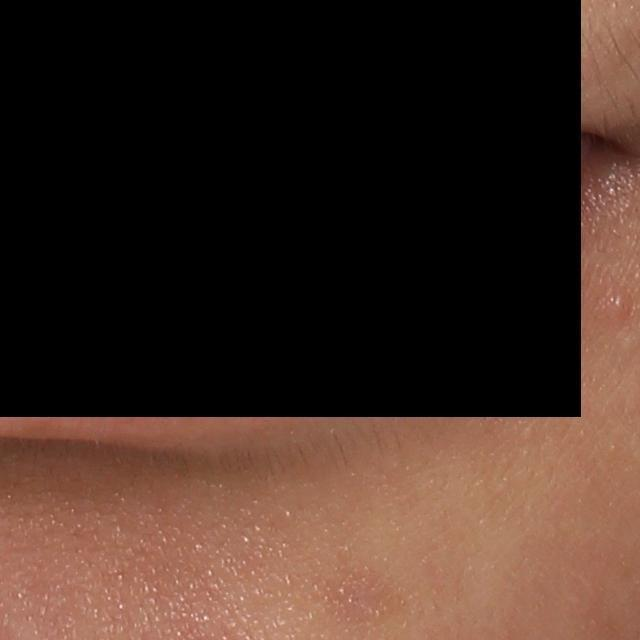papule: (604, 296, 630, 324)
